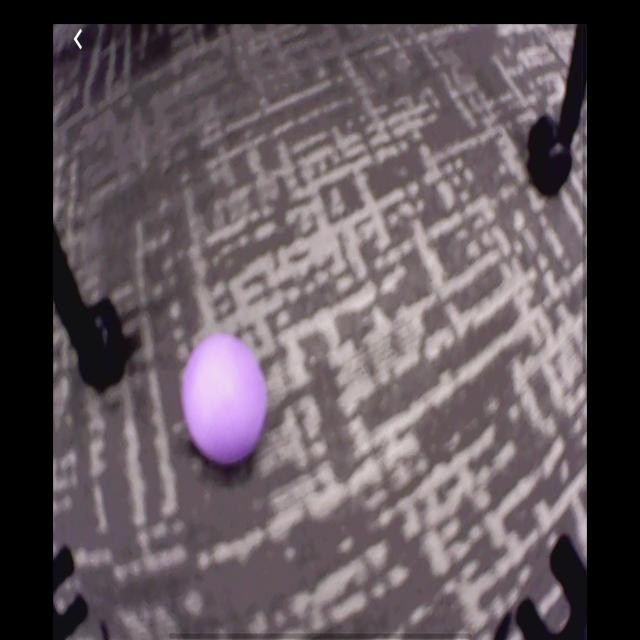ball: (182, 337, 268, 465)
